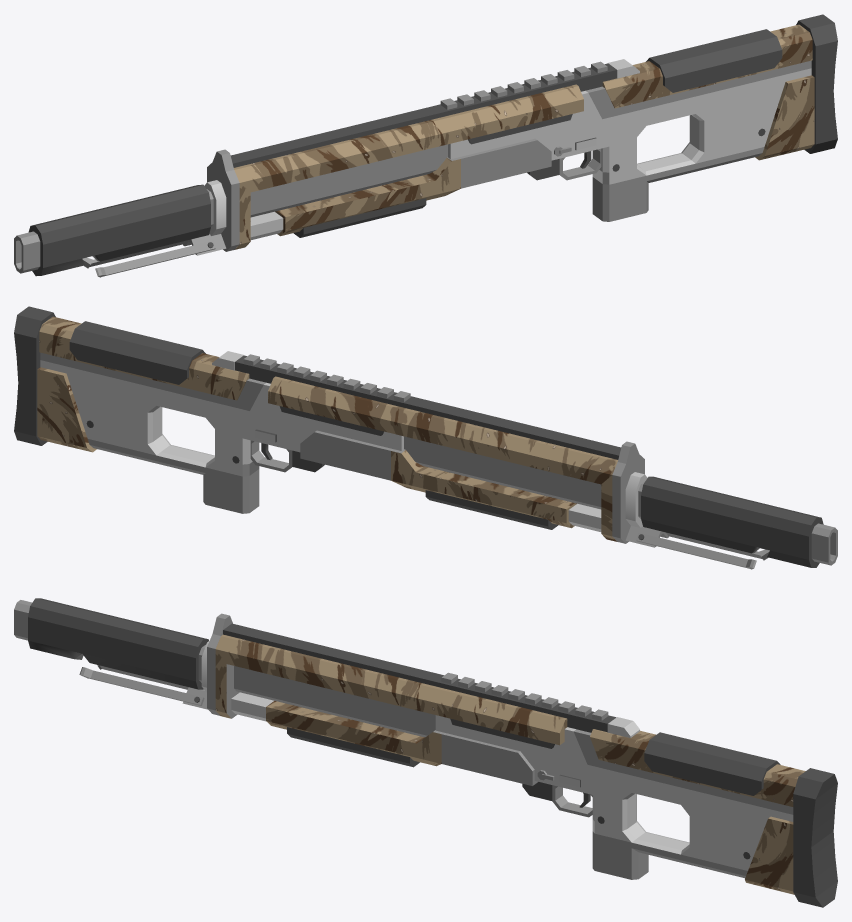
File: SM_SRA1.fbx
3 renders of one model, top to bottom at view 1: azimuth 30°, elevation 25°; view 2: azimuth 150°, elevation 25°; view 3: azimuth 330°, elevation 25°, orthographic.
Parts seen in each view (by area): view 1: SM_SRA1, SR_B1_LegL_mesh; view 2: SM_SRA1, SR_B1_LegR_mesh; view 3: SM_SRA1, SR_B1_LegL_mesh.
Part boxes in pixels (bbox=[...]): SM_SRA1: bbox=[14, 14, 837, 276]; SR_B1_LegL_mesh: bbox=[95, 240, 215, 277]; SM_SRA1: bbox=[14, 306, 837, 567]; SR_B1_LegR_mesh: bbox=[636, 532, 756, 569]; SM_SRA1: bbox=[14, 598, 837, 907]; SR_B1_LegL_mesh: bbox=[79, 667, 204, 705].
Bounding box in the file's own units: 111 × 20.61 × 5.75.
